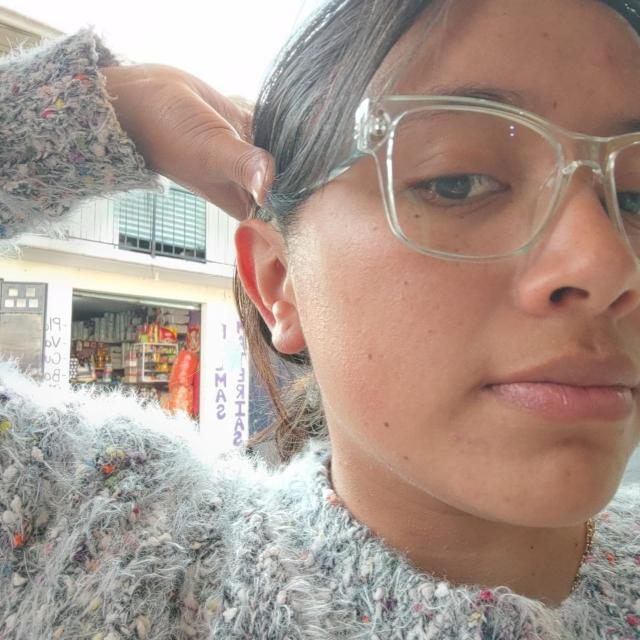ear: (235, 219, 306, 354)
